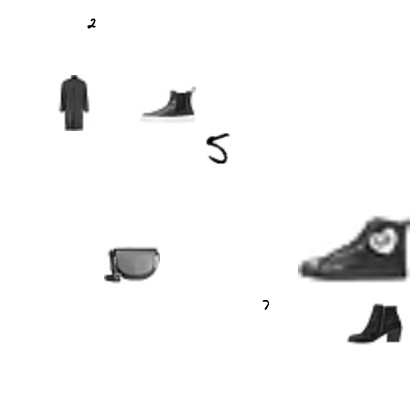2: (85, 17, 99, 31)
5: (196, 126, 238, 168)
7: (259, 297, 273, 311)
Ankle_boot: (140, 77, 196, 133), (347, 296, 403, 352)
Bag: (104, 237, 160, 293)
Coat: (45, 75, 101, 131)
Sneaker: (298, 189, 410, 301)
